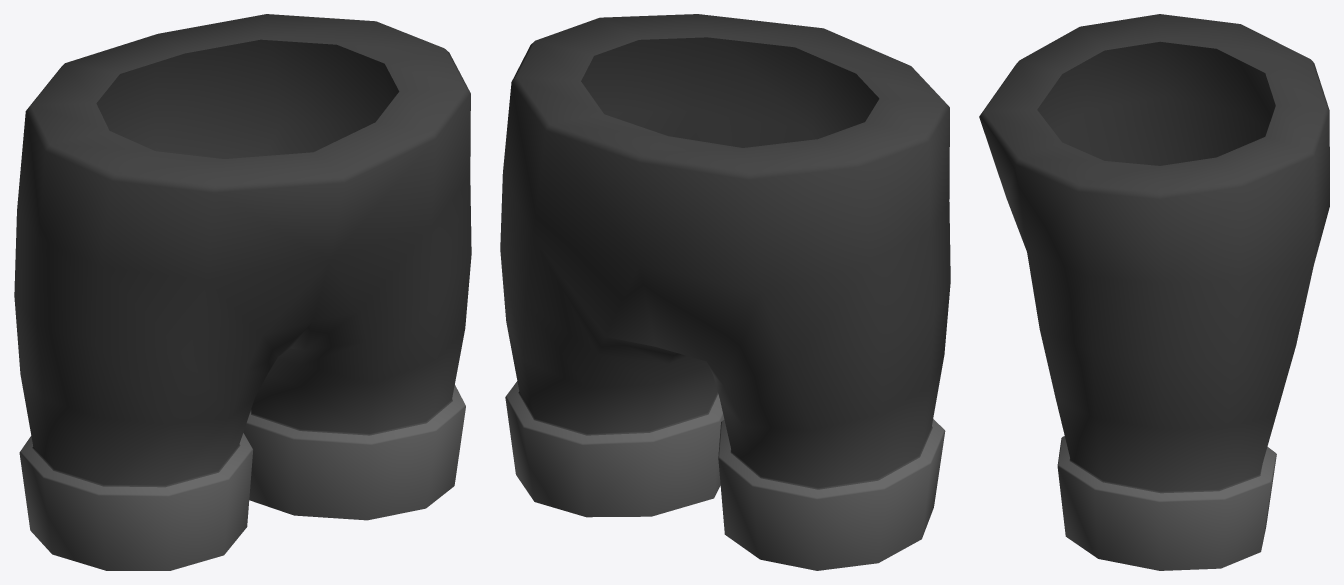
File: Pants_Black_003.glb
3 renders of one model, left to right at view 1: azimuth 30°, elevation 25°; view 2: azimuth 150°, elevation 25°; view 3: azimuth 270°, elevation 25°, orthographic. The views are drawn at different scales.
Visible parts, largest first — view 1: Pants_Black_003; view 2: Pants_Black_003; view 3: Pants_Black_003.
Boxes of the visible parts, x1=… form: Pants_Black_003: x1=14, y1=14, x2=471, y2=570; Pants_Black_003: x1=500, y1=14, x2=950, y2=570; Pants_Black_003: x1=979, y1=14, x2=1329, y2=570.
Bounding box in the file's own units: 0.4529 × 0.4315 × 0.3561.
1 material, 1 textured.
